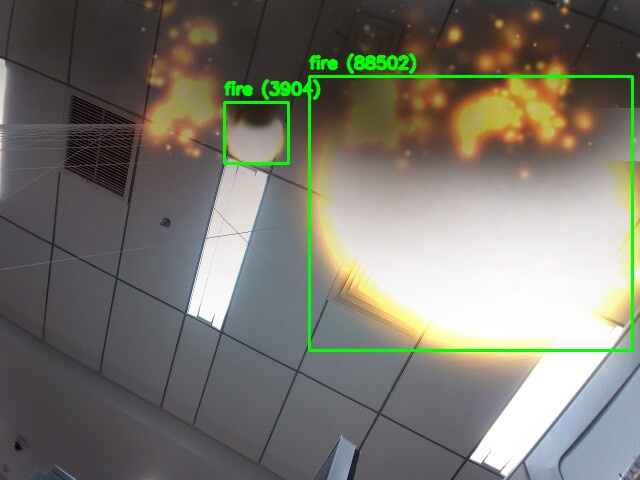fire: (309, 76, 632, 350), (224, 102, 288, 163)
